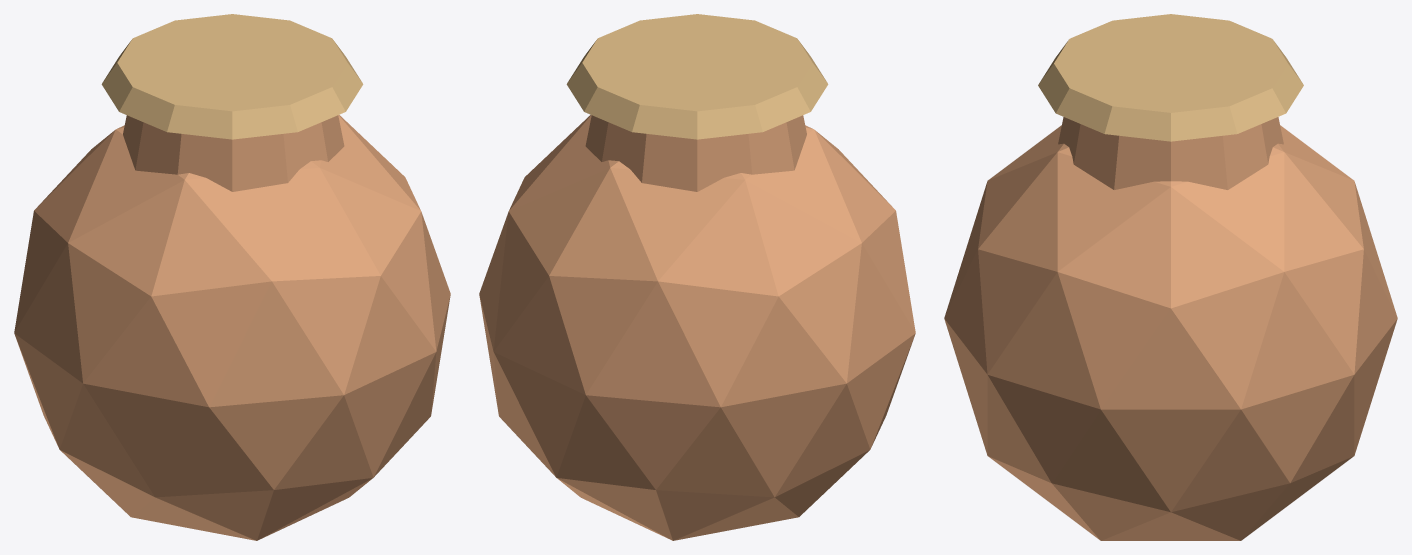
Rendered from CC_Jar.fbx.
The picture shows the model from 3 angles, left to right: view 1: azimuth 30°, elevation 25°; view 2: azimuth 150°, elevation 25°; view 3: azimuth 270°, elevation 25°; orthographic projection.
Parts seen in each view (by area): view 1: Jar belly, Jar lid, Jar neck; view 2: Jar belly, Jar lid, Jar neck; view 3: Jar belly, Jar lid, Jar neck.
Boxes of the visible parts, box(x1,y1,x2,y2) form: Jar belly: box(14, 115, 450, 540); Jar lid: box(101, 14, 363, 139); Jar neck: box(123, 115, 344, 191); Jar belly: box(479, 115, 915, 540); Jar lid: box(566, 14, 828, 139); Jar neck: box(585, 115, 806, 191); Jar belly: box(944, 125, 1397, 540); Jar lid: box(1038, 14, 1303, 141); Jar neck: box(1058, 117, 1283, 189).
Bounding box in the file's own units: 1.43 × 1.71 × 1.5.
